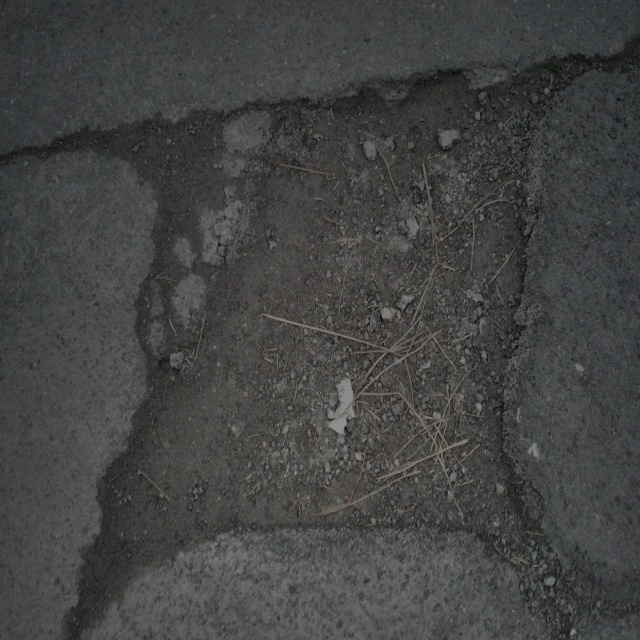pothole: (104, 48, 566, 579)
